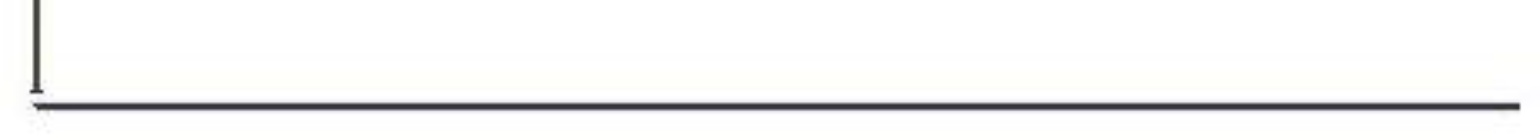EditText: (1, 1, 1539, 139)
